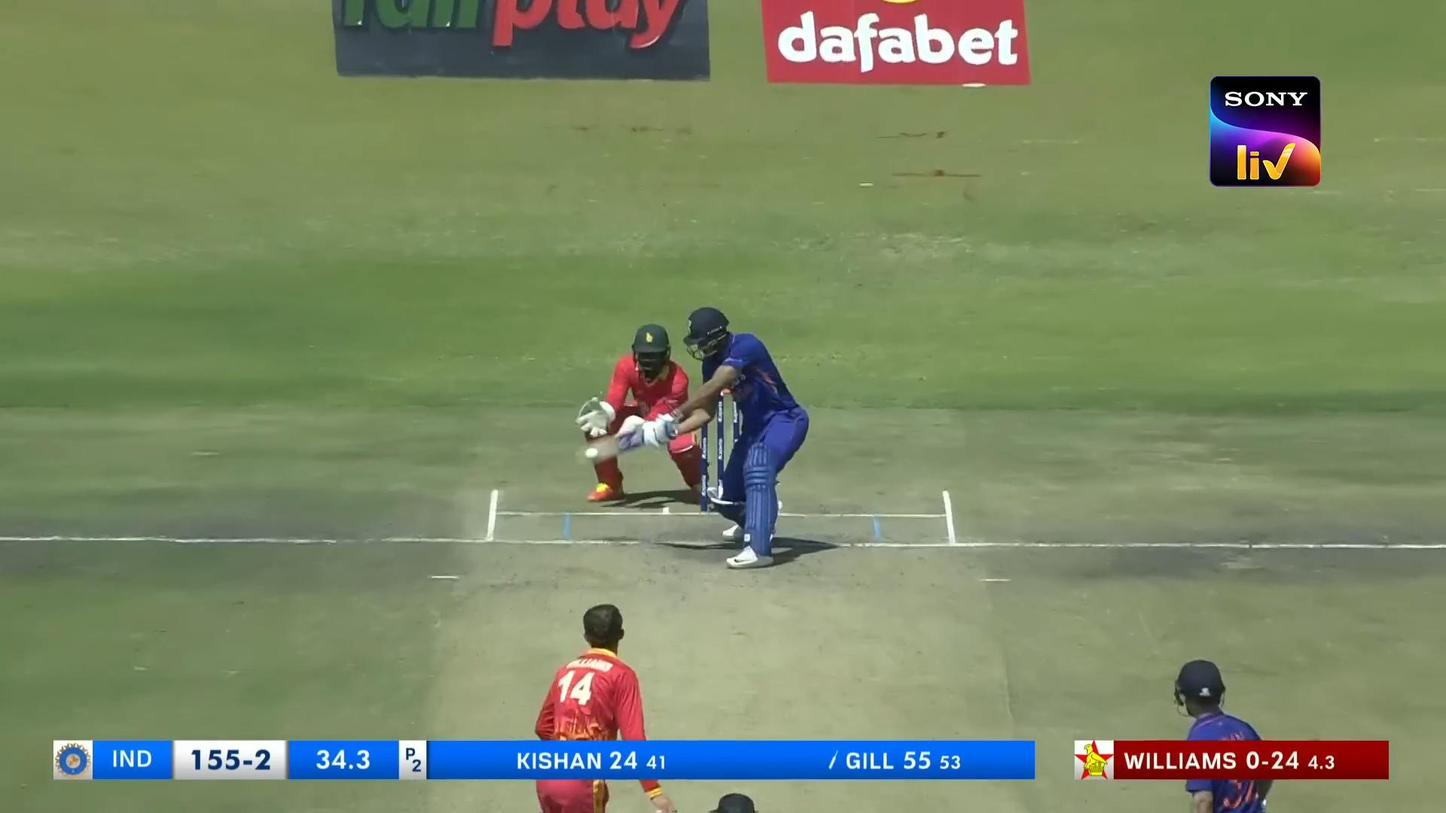batsman: (577, 306, 809, 569)
